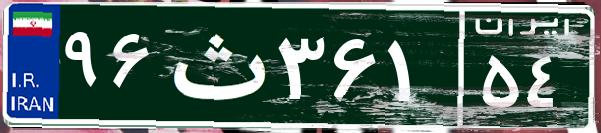1: (385, 28, 445, 110)
3: (273, 28, 330, 110)
4: (525, 38, 570, 115)
5: (475, 38, 525, 113)
6: (330, 28, 385, 110), (110, 28, 158, 105)
9: (57, 26, 110, 107)
ث: (158, 15, 273, 115)
